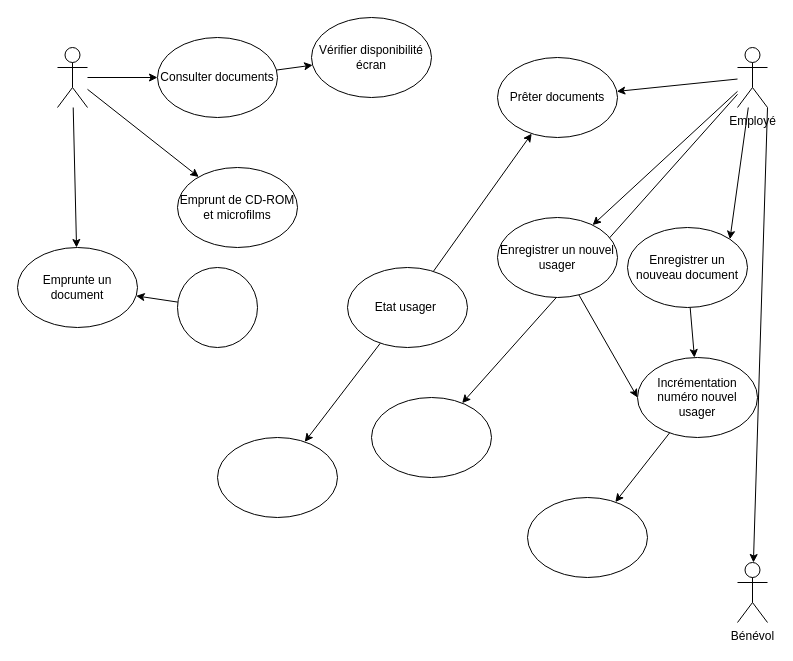
Some shapes in this 793 by 661 pixel diagram are drawn without their labels. The box of each missing label's shape, as (x1, y1, x2, y2) in pixels:
Incrémenter côte nouveau document: (526, 496, 648, 578)
Mise hors service document perdu ou volé: (370, 396, 492, 478)
Relance des usagers: (216, 436, 338, 518)
Saisir numéro carte lecteur: (176, 266, 258, 348)
Usager: (56, 46, 88, 108)
